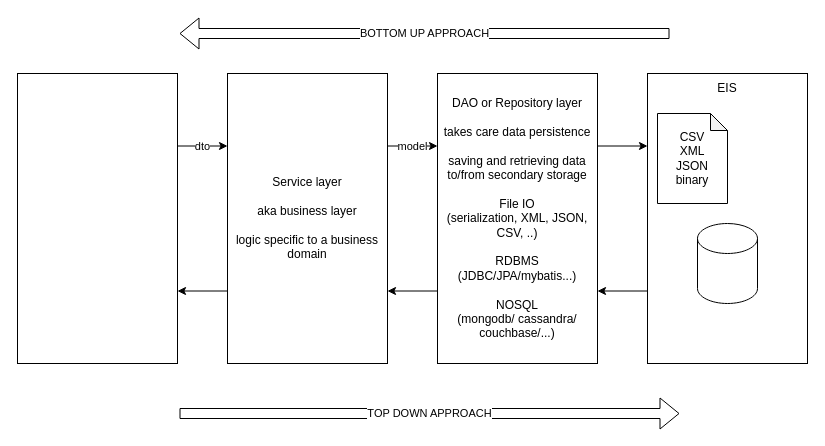
Image size: 825x446. Some labels were removed from this diagram. Each missing label, with the box of its shape:
presentation layer deals with user input/output: (16, 72, 178, 364)
RDBMS NOSQL: (696, 222, 758, 304)
